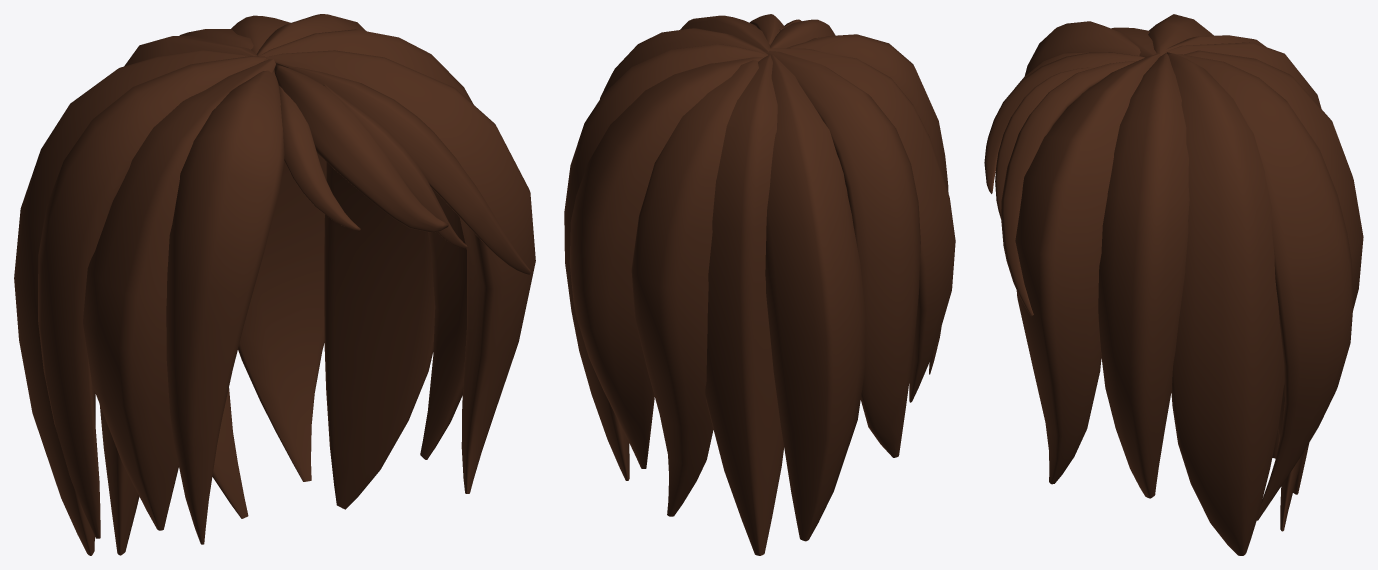
The picture shows the model from 3 angles, left to right: view 1: azimuth 30°, elevation 25°; view 2: azimuth 150°, elevation 25°; view 3: azimuth 270°, elevation 25°; orthographic projection. The views are drawn at different scales.
Visible parts, largest first — view 1: hairLong; view 2: hairLong; view 3: hairLong.
Part boxes in pixels (bbox=[...]): hairLong: bbox=[14, 14, 535, 555]; hairLong: bbox=[564, 14, 955, 555]; hairLong: bbox=[984, 14, 1363, 555].
Bounding box in the file's own units: 0.5805 × 0.7182 × 0.5178.
Materials: 1 (1 with a texture image).
